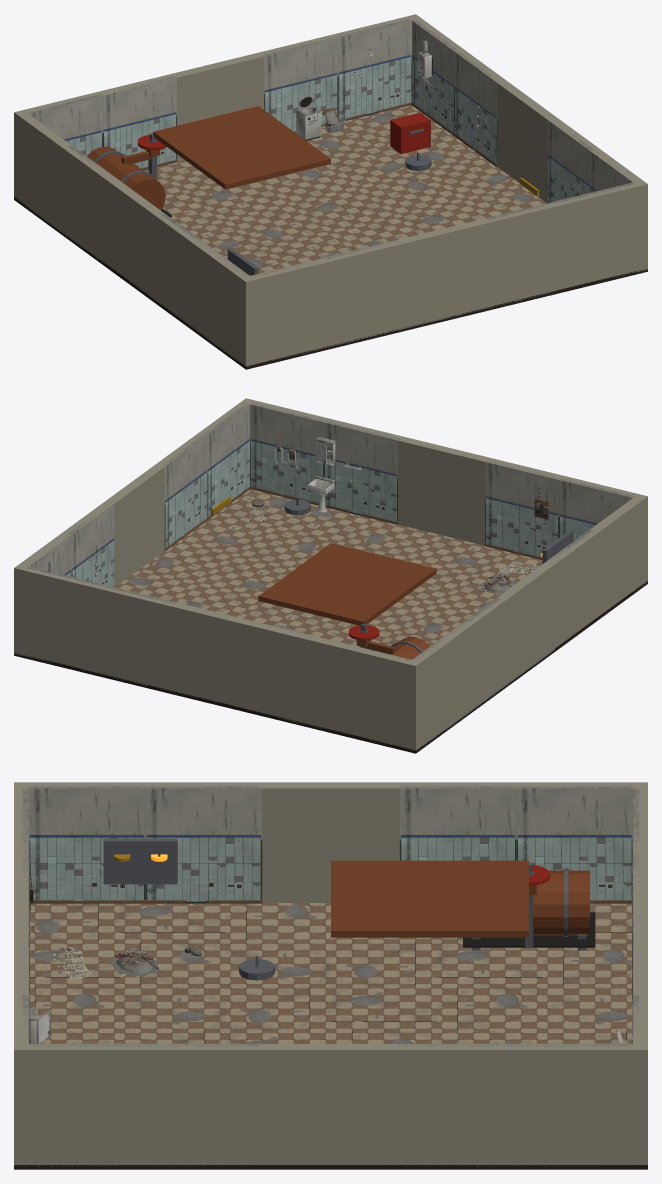
Rendered from room_boiler_decorated.glb.
3 views of the same model, one above another, from view 1: azimuth 30°, elevation 25°; view 2: azimuth 150°, elevation 25°; view 3: azimuth 270°, elevation 25° (orthographic). The views are drawn at different scales.
Visible parts, largest first — view 1: Wall_S_A, Wall_S_B, NoCol_BoilerHeader, Wall_W_B, Wall_W_A, Plug_S, NoCol_Wallpaper_N3, NoCol_Wallpaper_N2, NoCol_Wallpaper_N1, NoCol_Wallpaper_E2, Plug_W, Plug_E (+35 smaller); view 2: Wall_N_A, Wall_N_B, NoCol_BoilerHeader, Wall_W_A, Wall_W_B, Plug_N, Plug_S, NoCol_Wallpaper_S2, NoCol_Wallpaper_S1, NoCol_Wallpaper_S3, NoCol_Wallpaper_E1, Plug_W (+34 smaller); view 3: Wall_E_A, Wall_E_B, NoCol_BoilerHeader, Plug_E, NoCol_Wallpaper_W1, NoCol_Wallpaper_W0, Plug_W, NoCol_Wallpaper_W3, NoCol_Wallpaper_W2, NoCol_FloorTile_13, NoCol_FloorTile_21, NoCol_FloorTile_24 (+38 smaller).
Part boxes in pixels (x1=…): Wall_S_A: x1=240, y1=240, x2=403, y2=365; Wall_S_B: x1=486, y1=180, x2=647, y2=306; NoCol_BoilerHeader: x1=153, y1=106, x2=330, y2=189; Wall_W_B: x1=19, y1=114, x2=113, y2=262; Wall_W_A: x1=155, y1=214, x2=249, y2=361; Plug_S: x1=403, y1=233, x2=490, y2=327; NoCol_Wallpaper_N3: x1=336, y1=19, x2=411, y2=118; NoCol_Wallpaper_N2: x1=262, y1=37, x2=337, y2=131; NoCol_Wallpaper_N1: x1=102, y1=76, x2=176, y2=168; NoCol_Wallpaper_E2: x1=454, y1=51, x2=499, y2=164; Plug_W: x1=105, y1=189, x2=155, y2=299; Plug_E: x1=497, y1=93, x2=547, y2=202; Wall_N_A: x1=258, y1=624, x2=421, y2=749; Wall_N_B: x1=14, y1=564, x2=176, y2=690; NoCol_BoilerHeader: x1=258, y1=543, x2=436, y2=625; Wall_W_A: x1=548, y1=498, x2=642, y2=646; Wall_W_B: x1=412, y1=598, x2=506, y2=745; Plug_N: x1=171, y1=617, x2=258, y2=711; Plug_S: x1=398, y1=451, x2=484, y2=545; NoCol_Wallpaper_S2: x1=324, y1=421, x2=399, y2=521; NoCol_Wallpaper_S1: x1=485, y1=460, x2=560, y2=557; NoCol_Wallpaper_S3: x1=250, y1=403, x2=325, y2=503; NoCol_Wallpaper_E1: x1=162, y1=435, x2=207, y2=548; Plug_W: x1=506, y1=573, x2=556, y2=683; Wall_E_A: x1=28, y1=1044, x2=262, y2=1164; Wall_E_B: x1=399, y1=1044, x2=633, y2=1164; NoCol_BoilerHeader: x1=331, y1=860, x2=528, y2=937; Plug_E: x1=262, y1=1064, x2=399, y2=1164; NoCol_Wallpaper_W1: x1=145, y1=786, x2=262, y2=903; NoCol_Wallpaper_W0: x1=28, y1=786, x2=145, y2=900; Plug_W: x1=262, y1=802, x2=399, y2=902; NoCol_Wallpaper_W3: x1=516, y1=786, x2=633, y2=900; NoCol_Wallpaper_W2: x1=399, y1=786, x2=516, y2=860; NoCol_FloorTile_13: x1=331, y1=941, x2=436, y2=986; NoCol_FloorTile_21: x1=119, y1=986, x2=225, y2=1030; NoCol_FloorTile_24: x1=436, y1=986, x2=542, y2=1030.
Bounding box in the file's own units: 12 × 2.5 × 12.
Materials: 34 (19 with a texture image).
